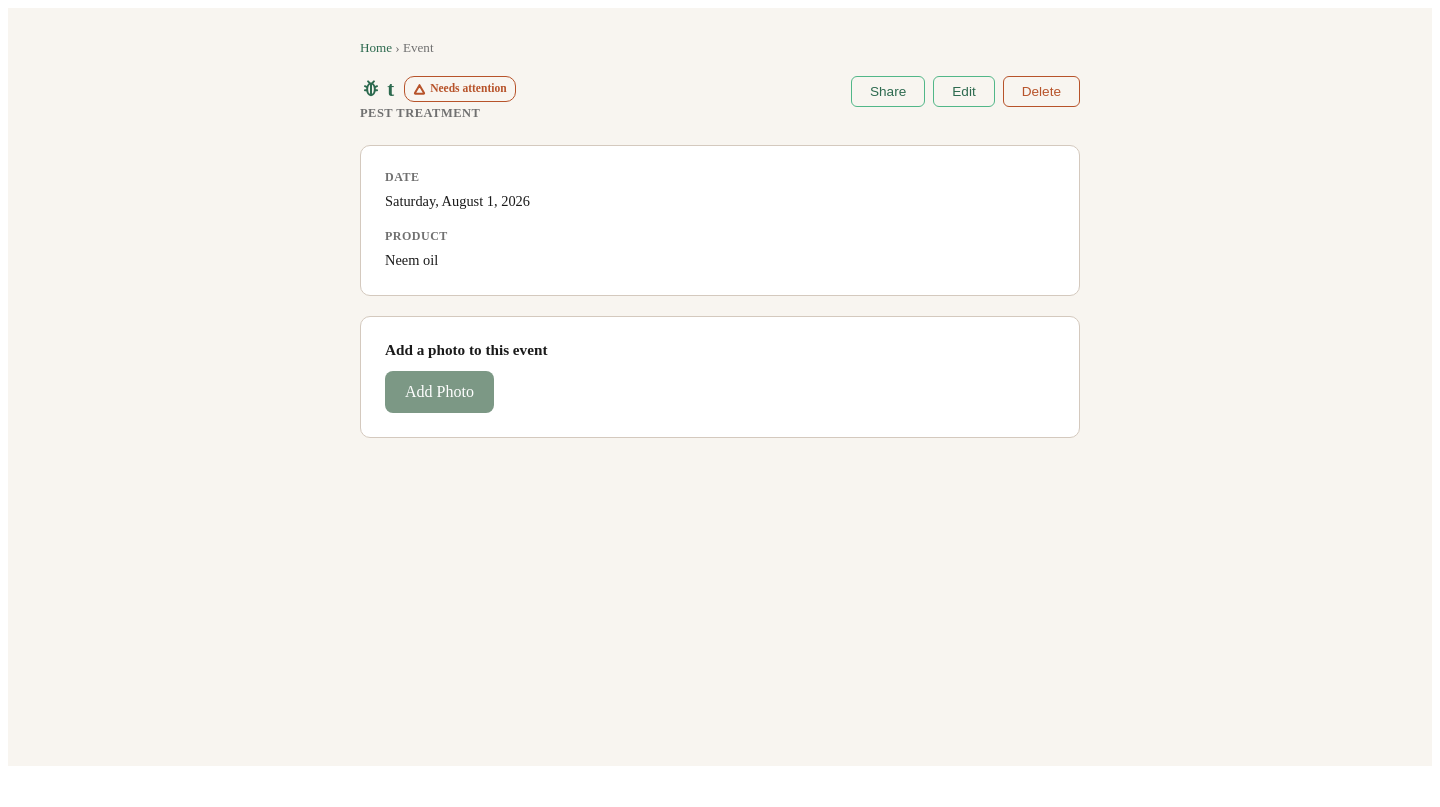
Test: slice 2: the edit form seeds and saves what it can now write › an unrelated edit ROUND-TRIPS the treatment columns unchanged
The width and height of the screenshot is (1440, 807).
Click the button "Edit": coordinates (964, 92) [933, 76, 995, 107]
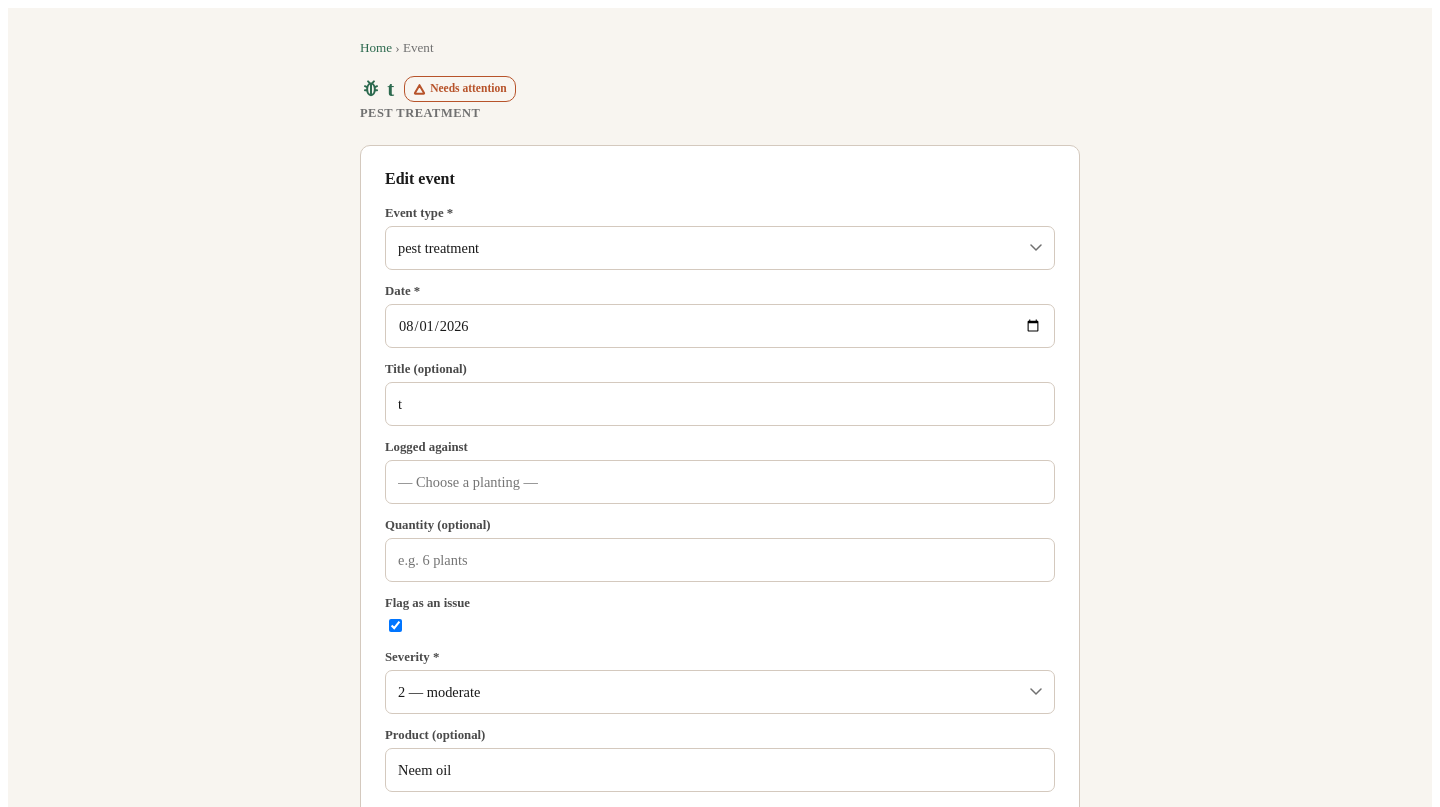
Replace the text in the field labelled "Title (optional)" with "new title": coordinates (720, 404) [385, 382, 1055, 426]
(page scrolled)
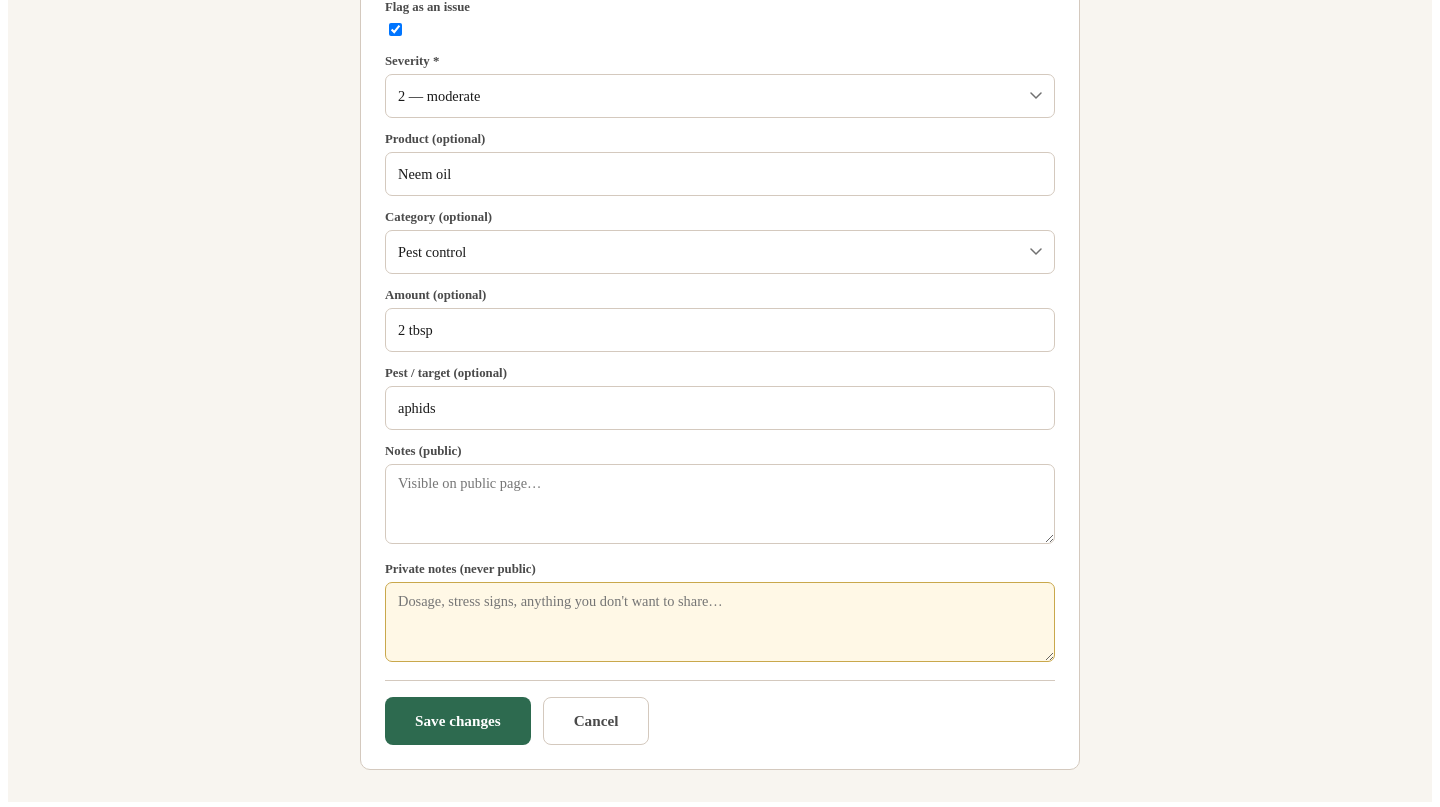
Click the button "Save changes": coordinates (458, 721) [385, 697, 531, 745]
(page scrolled)
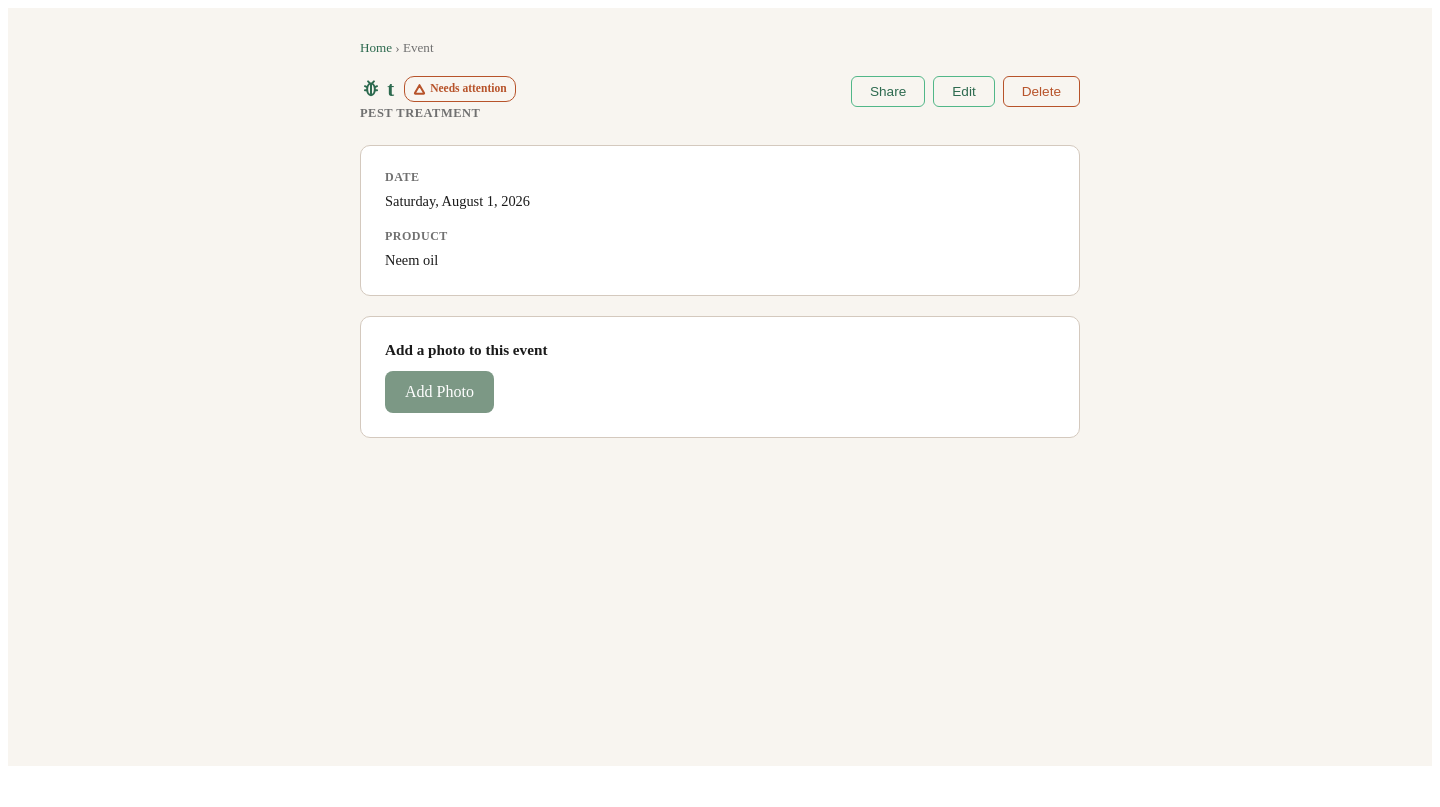
expect the text "Neem oil" is shown: met, box [385, 252, 438, 268]
